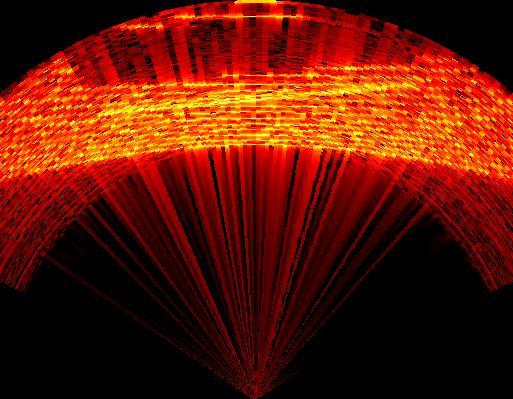pipe: (64, 16, 427, 90)
